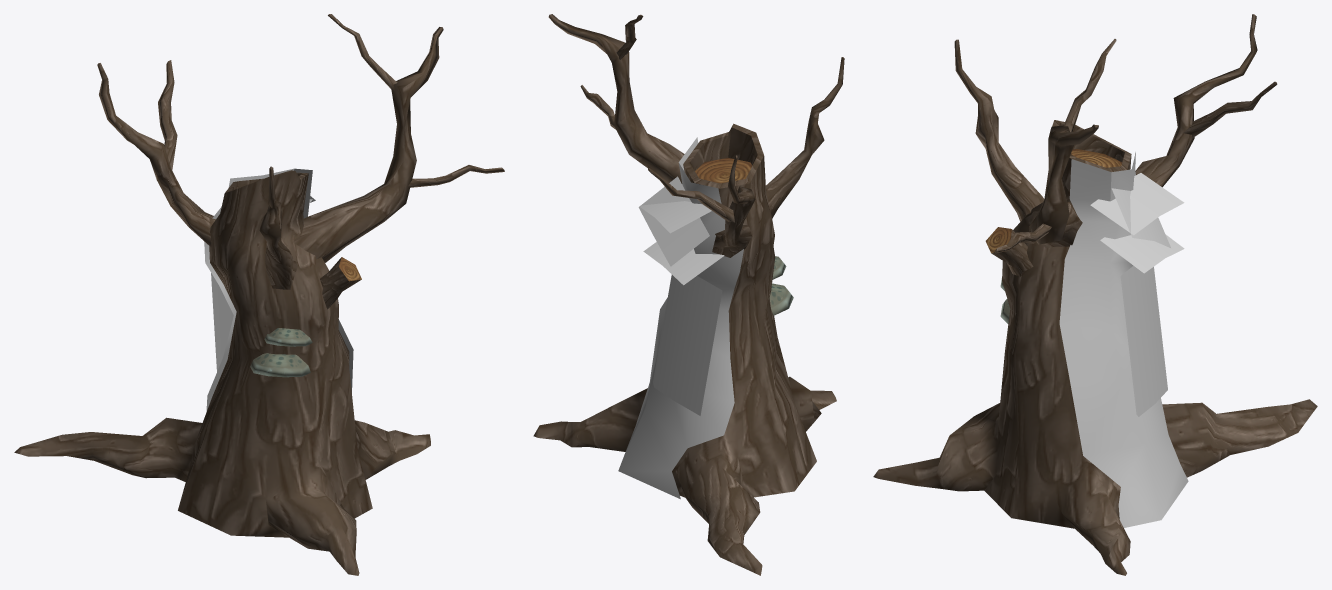
Rendered from Tree_Dead2.fbx.
The picture shows the model from 3 angles, left to right: view 1: azimuth 30°, elevation 25°; view 2: azimuth 150°, elevation 25°; view 3: azimuth 270°, elevation 25°; orthographic projection. The views are drawn at different scales.
Visible parts, largest first — view 1: polySurface487; view 2: polySurface487; view 3: polySurface487.
Part boxes in pixels (x1,y1,x2,y2): polySurface487: (14,14,504,575); polySurface487: (533,14,844,575); polySurface487: (873,14,1317,575).
Size of the model in its own units: 2.88 by 3.72 by 3.11.
